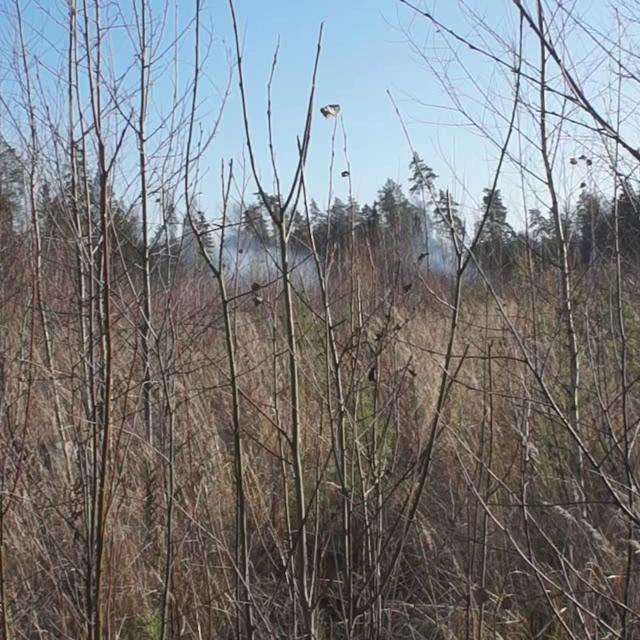Smoke: (194, 216, 324, 294), (410, 222, 474, 282)
